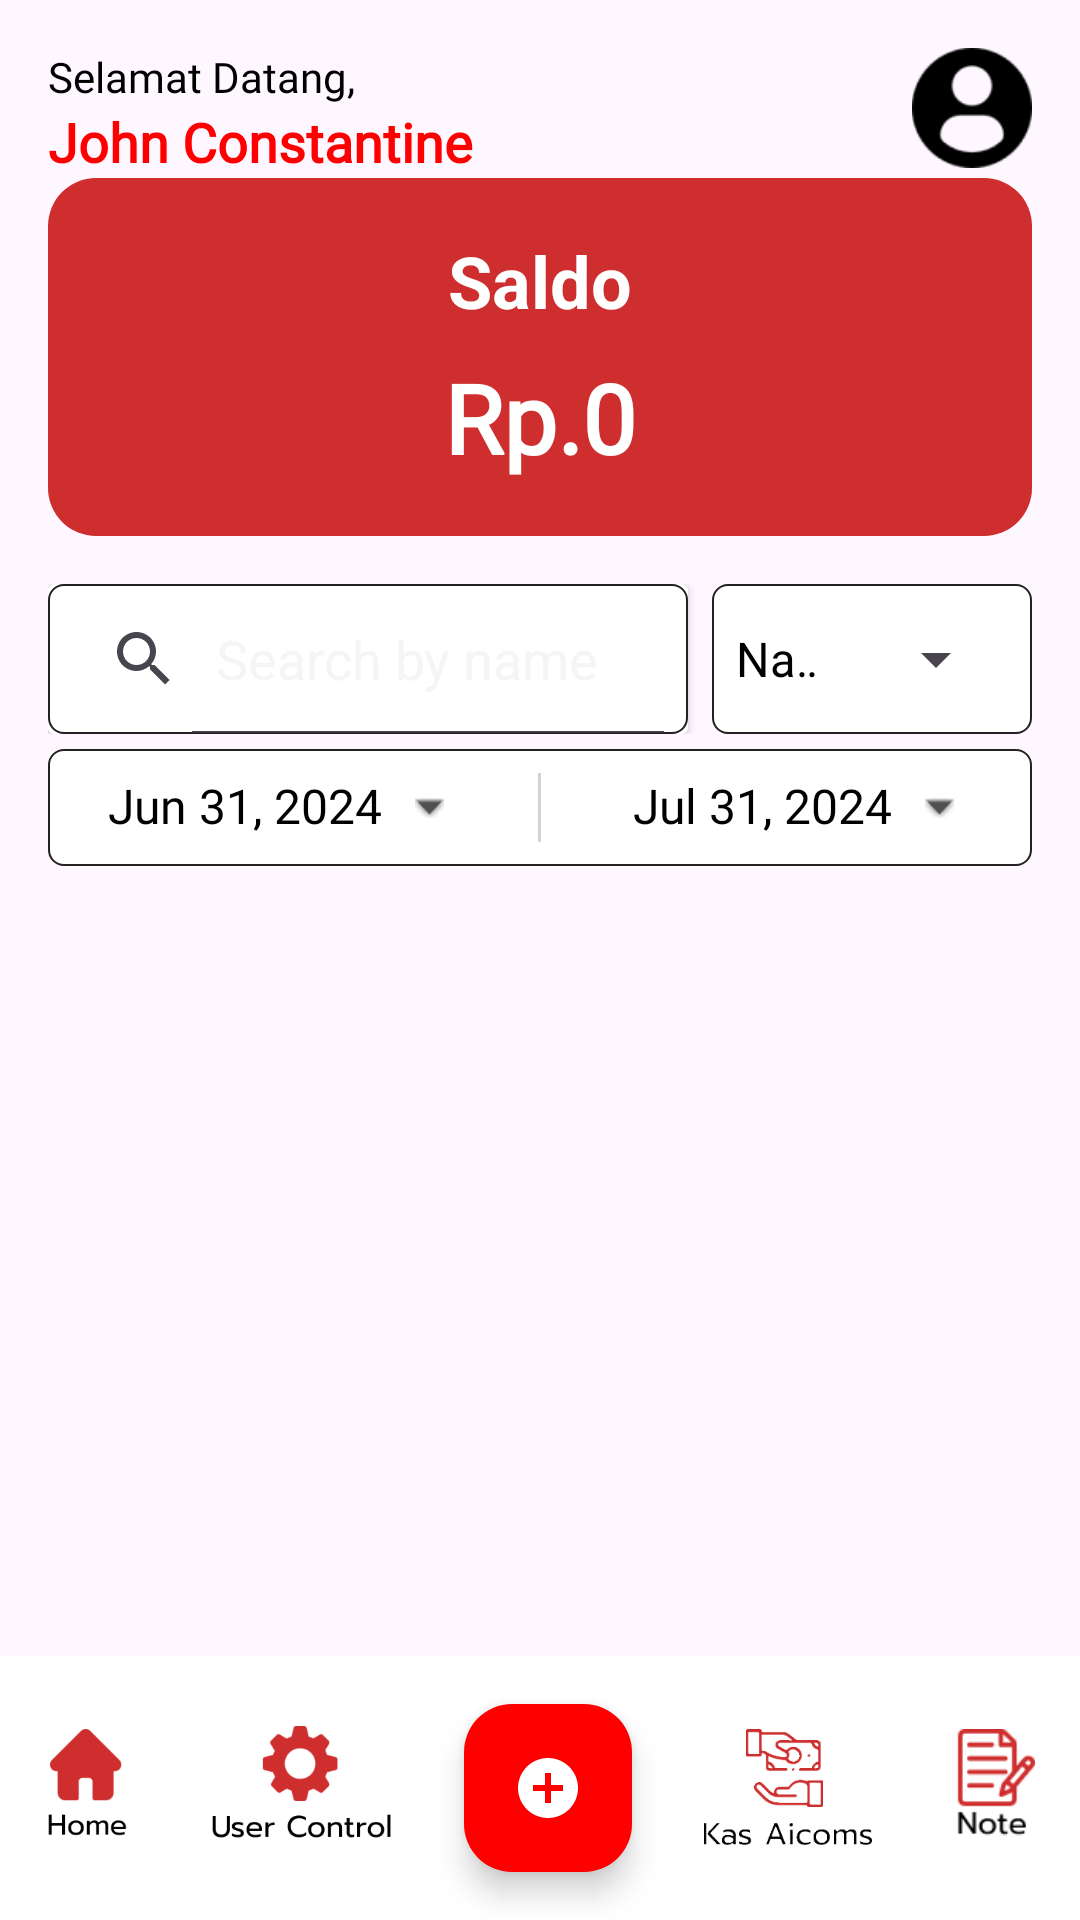

Where to tap for icons on this 1080 x 1920 app screen, as point (x, y):
add circle: point (548, 1788)
profil: point (972, 108)
